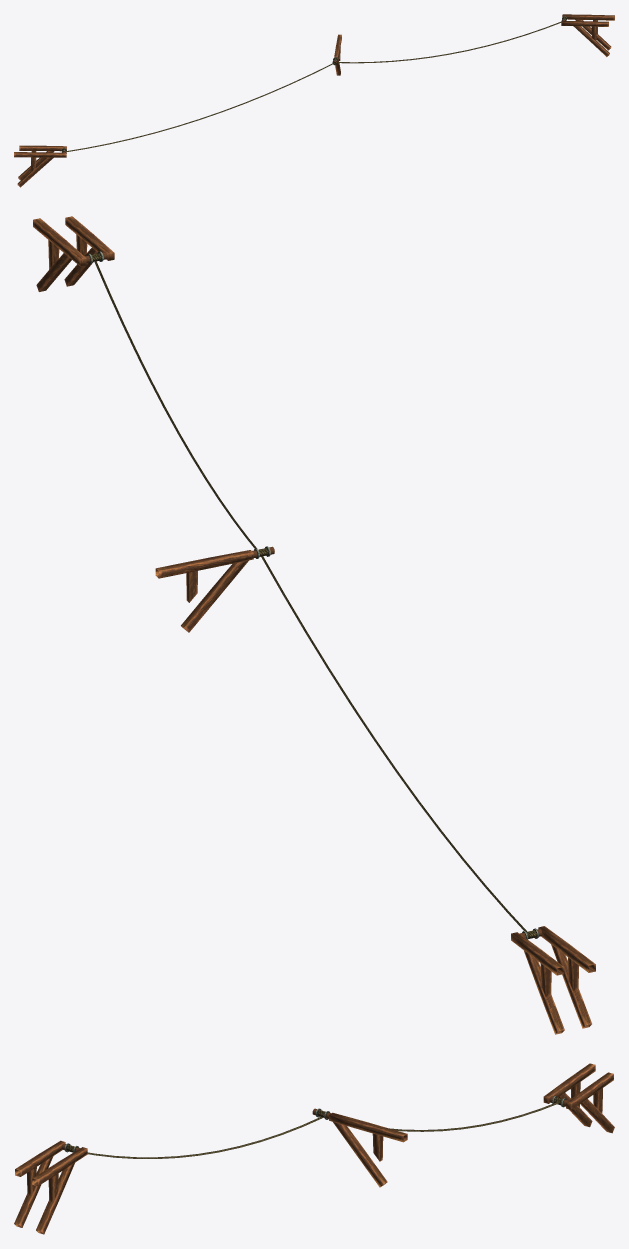
File: INST_SWORDLIGHT_ZIPLINEBRACKETS.fbx
The picture shows the model from 3 angles, top to bottom: view 1: azimuth 30°, elevation 25°; view 2: azimuth 150°, elevation 25°; view 3: azimuth 270°, elevation 25°; orthographic projection. The views are drawn at different scales.
Parts seen in each view (by area): view 1: INST_SWORDLIGHT_ZIPLINEBRACKETS; view 2: INST_SWORDLIGHT_ZIPLINEBRACKETS; view 3: INST_SWORDLIGHT_ZIPLINEBRACKETS.
Part boxes in pixels (x1,y1,x2,y2): INST_SWORDLIGHT_ZIPLINEBRACKETS: [14, 14, 614, 187]; INST_SWORDLIGHT_ZIPLINEBRACKETS: [33, 216, 595, 1034]; INST_SWORDLIGHT_ZIPLINEBRACKETS: [14, 1063, 614, 1234].
Bounding box in the file's own units: 385008 × 151651 × 263069.
6 materials, 6 textured.
